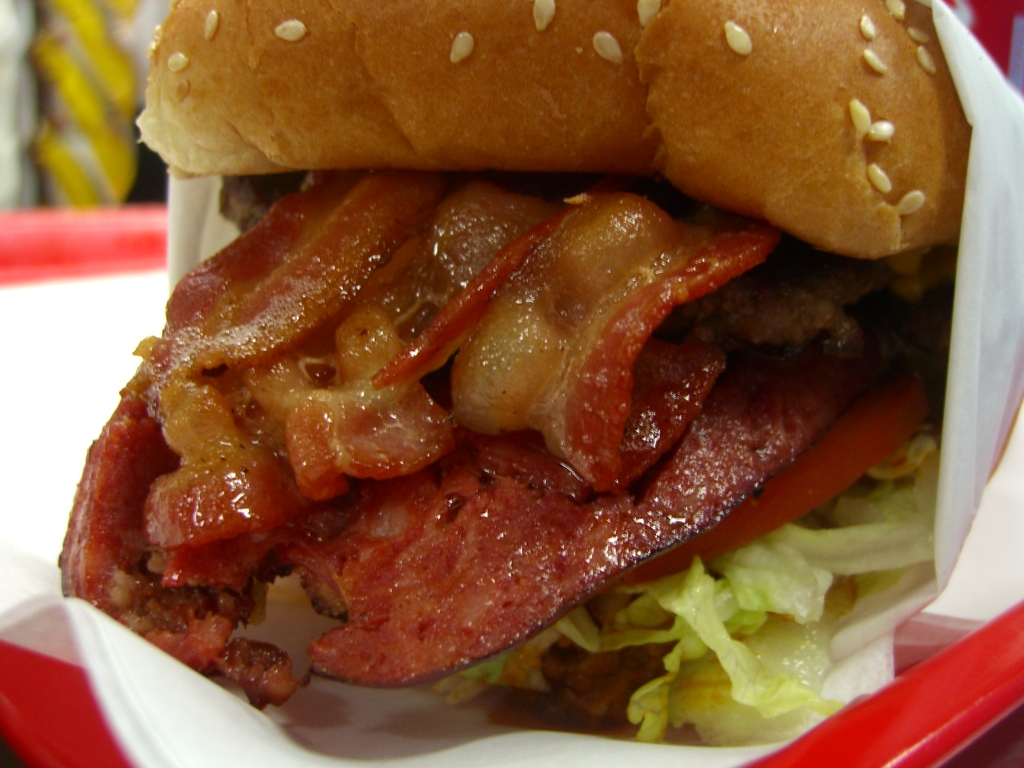Hamburger: (55, 0, 974, 748)
